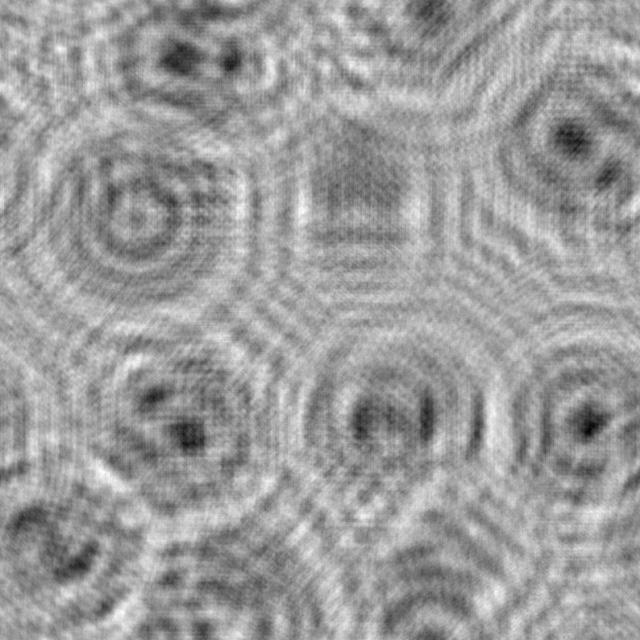P: (495, 322, 640, 532)
Q: (7, 91, 264, 332), (88, 468, 360, 640)
R: (29, 294, 307, 536), (465, 30, 640, 263), (41, 0, 311, 150)
S: (273, 296, 519, 542), (0, 451, 166, 640)
T: (249, 87, 476, 322), (357, 468, 567, 640)
